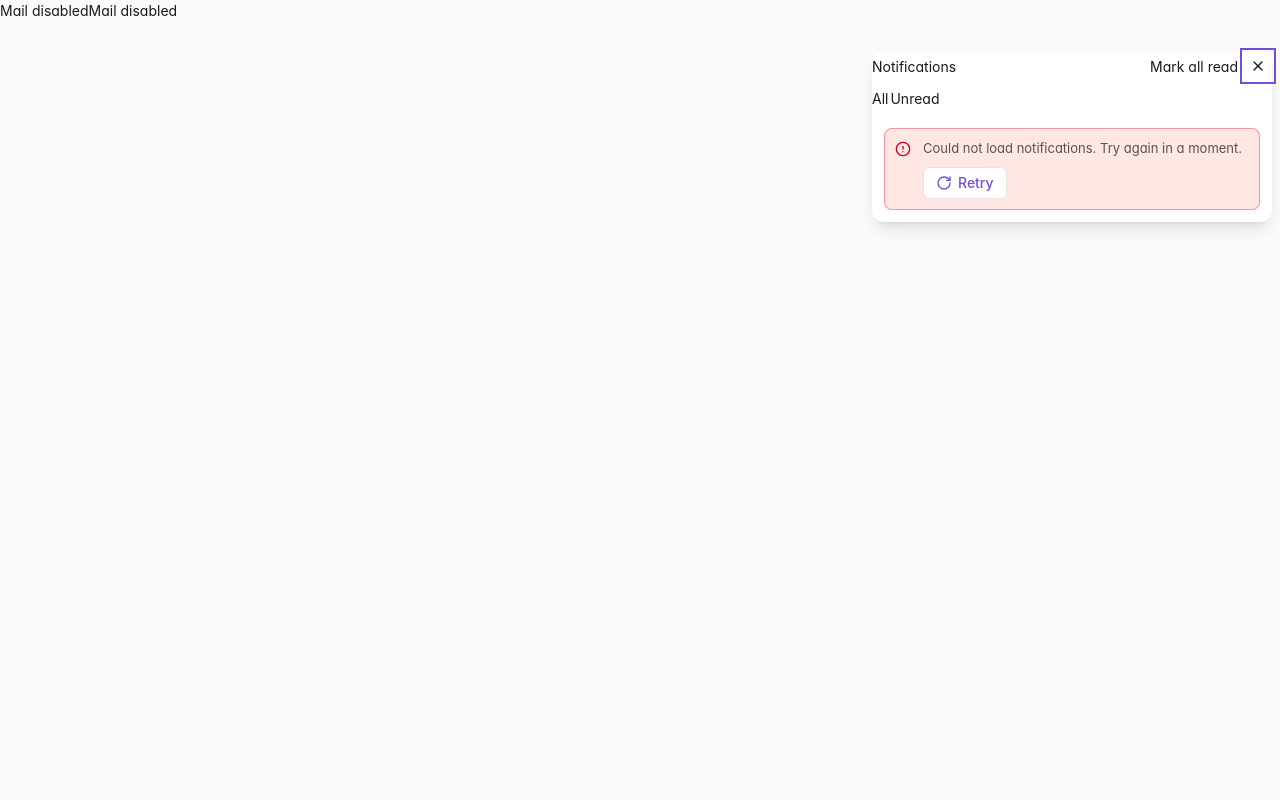
Scenario: keeps a persistent 429 visible after bounded retries and recovers only when retried
The image size is (1280, 800).
expect the message "Could not load notifications. Try again in a moment. Retry" is shown: met, box x1=884 y1=128 x2=1260 y2=210
Click the button "Retry": (965, 182) x1=923 y1=166 x2=1007 y2=198
Wait 1 ms
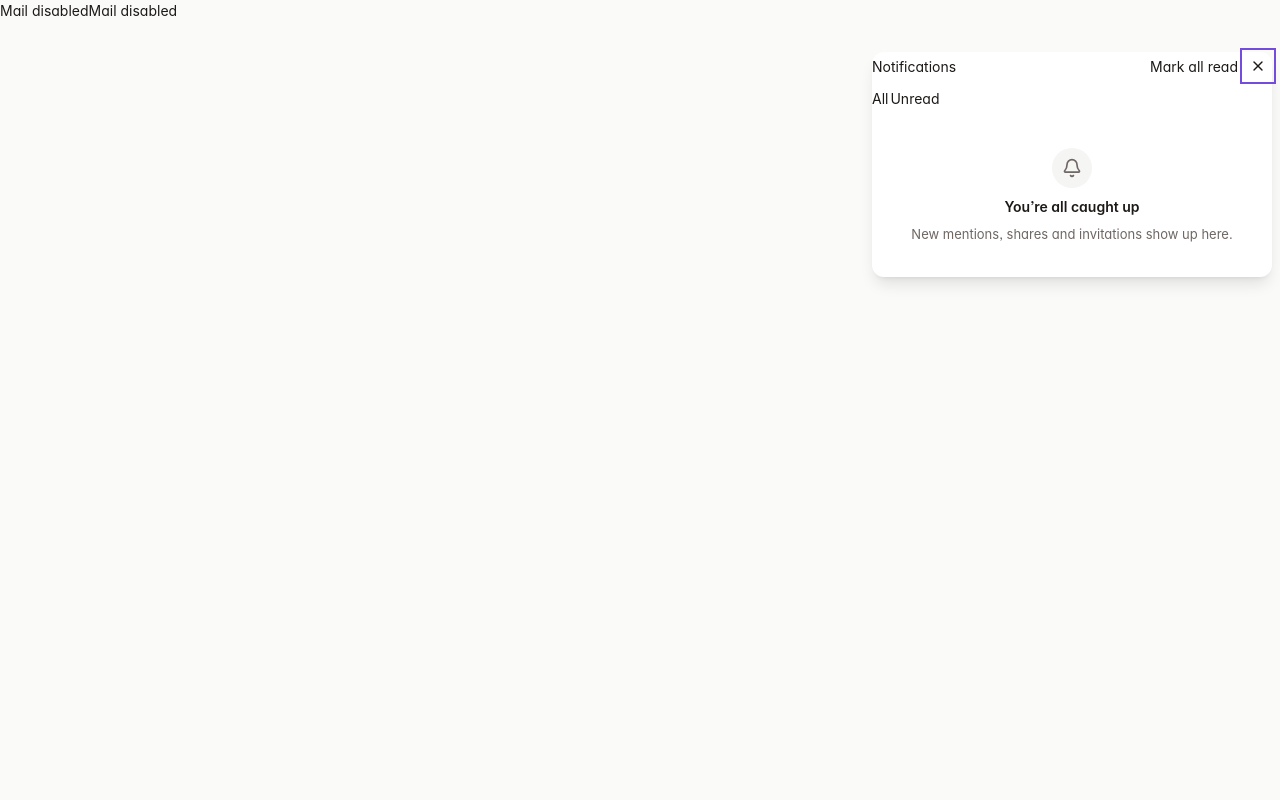
expect the message "Could not load notifications. Try again in a moment. Retry" is gone: met
